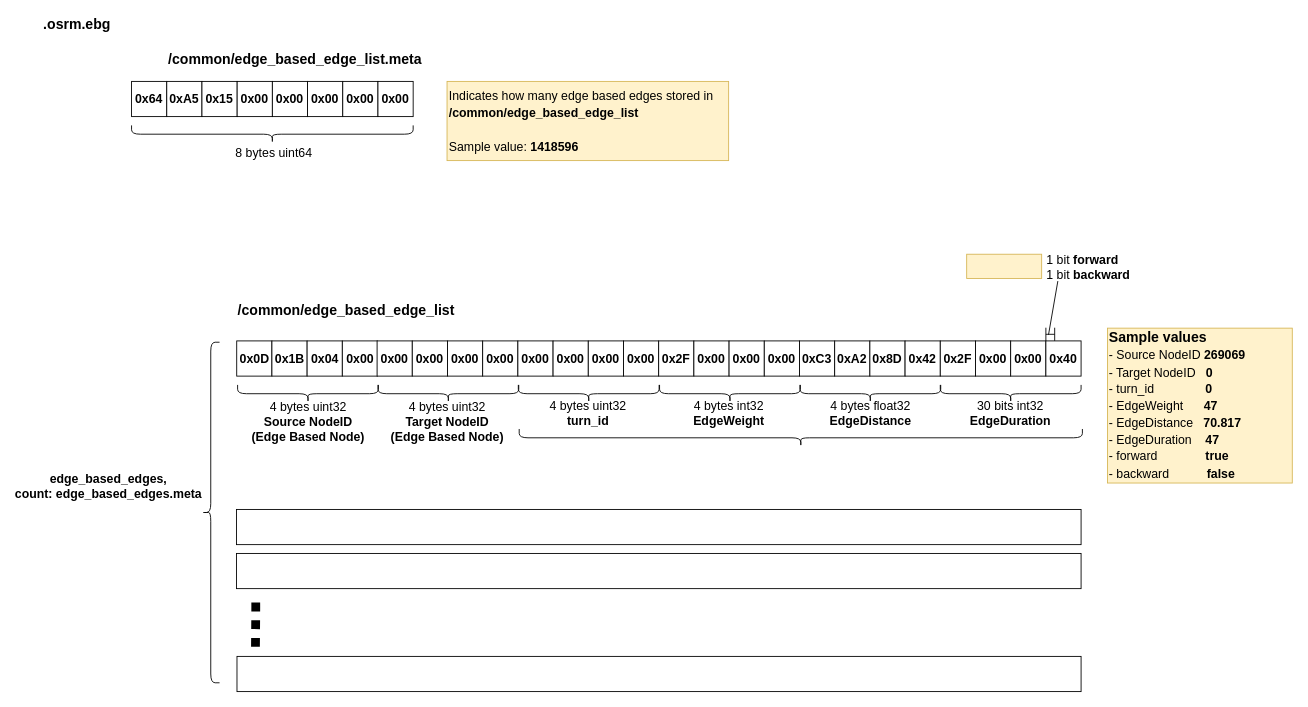
Some shapes in this 1308 by 707 pixel diagram are drawn without their labels. Here are the shapes that lost their labels. From the top down, the centre of each, then its label:
(1004,265): Due to LittleEndian
(800,437): 16 bytes EdgeData
